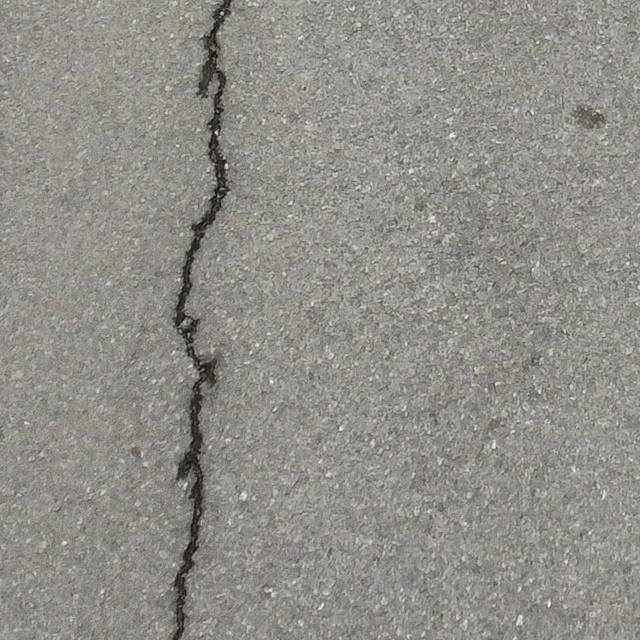LongitudinalCrack: (168, 2, 233, 640)
